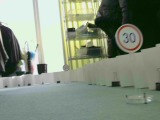speed_30: (114, 24, 144, 52)
